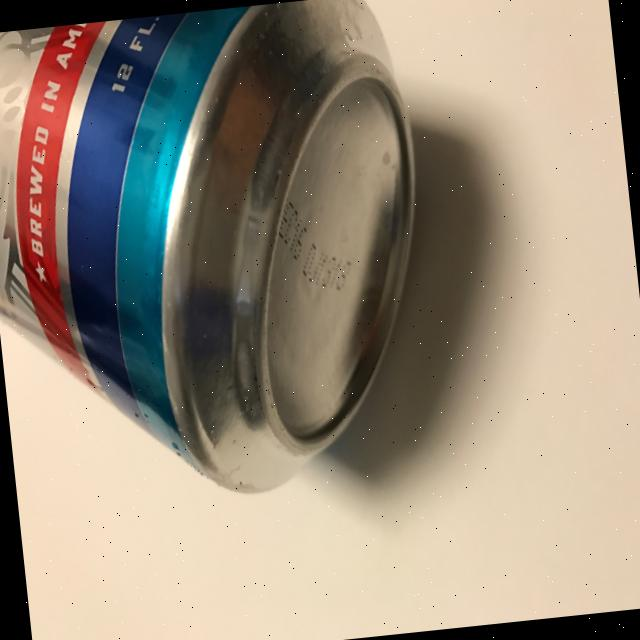metal: (0, 0, 448, 519)
